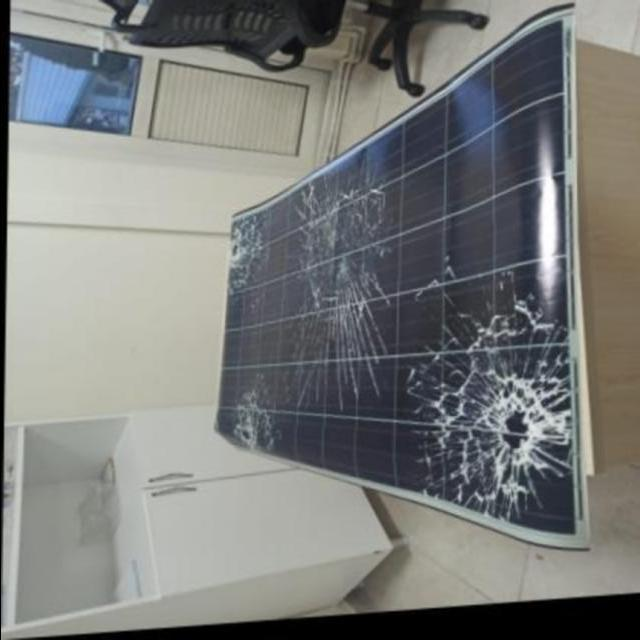cracked: (209, 21, 576, 534)
